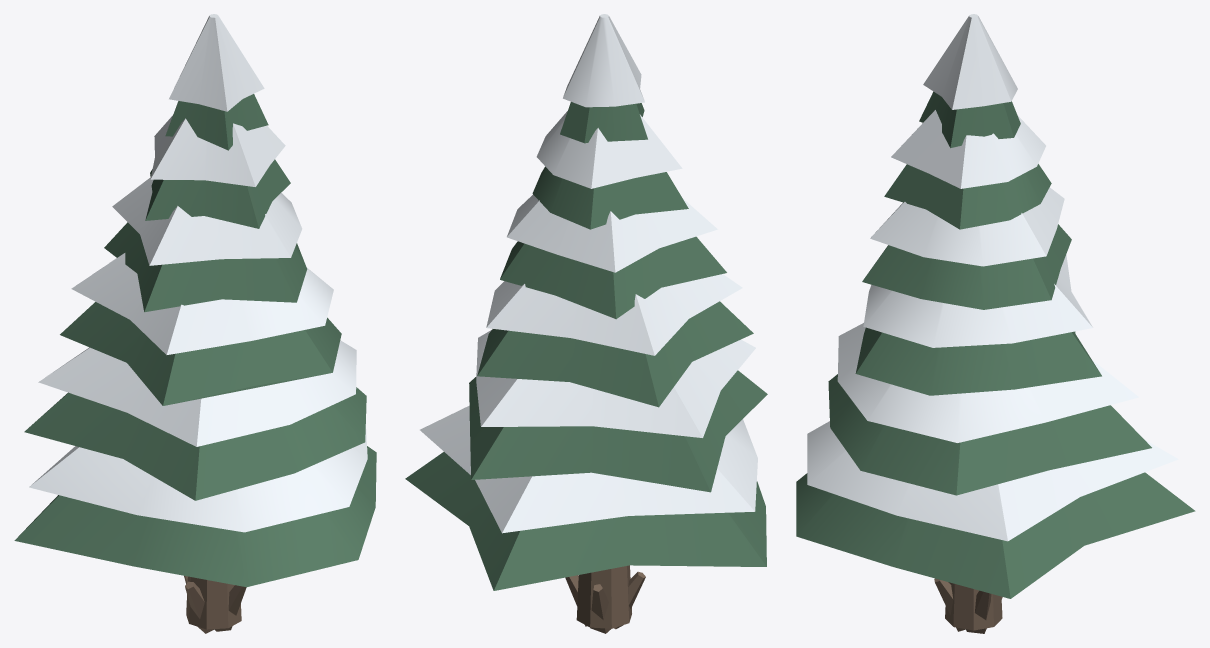
File: nordic_pine.glb
3 views of the same model, side by side, from view 1: azimuth 30°, elevation 25°; view 2: azimuth 150°, elevation 25°; view 3: azimuth 270°, elevation 25° (orthographic).
Parts seen in each view (by area): view 1: SM_Veg_NordicPine_01; view 2: SM_Veg_NordicPine_01; view 3: SM_Veg_NordicPine_01.
Part boxes in pixels (box(x1,y1,x2,y2)): SM_Veg_NordicPine_01: box(14, 14, 376, 633); SM_Veg_NordicPine_01: box(405, 14, 767, 633); SM_Veg_NordicPine_01: box(796, 14, 1195, 633).
Bounding box in the file's own units: 4.95 × 7.97 × 4.72.
